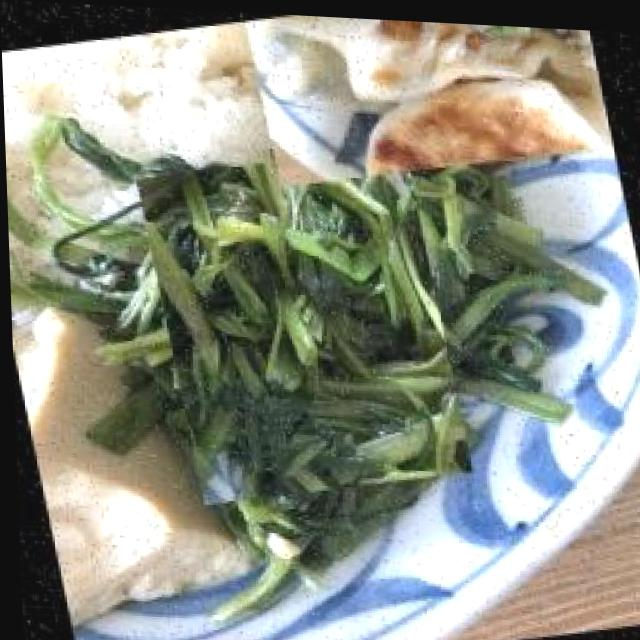fried_dumplings: (244, 10, 612, 197)
rice: (0, 10, 266, 211)
water_spinach: (116, 130, 484, 502)
